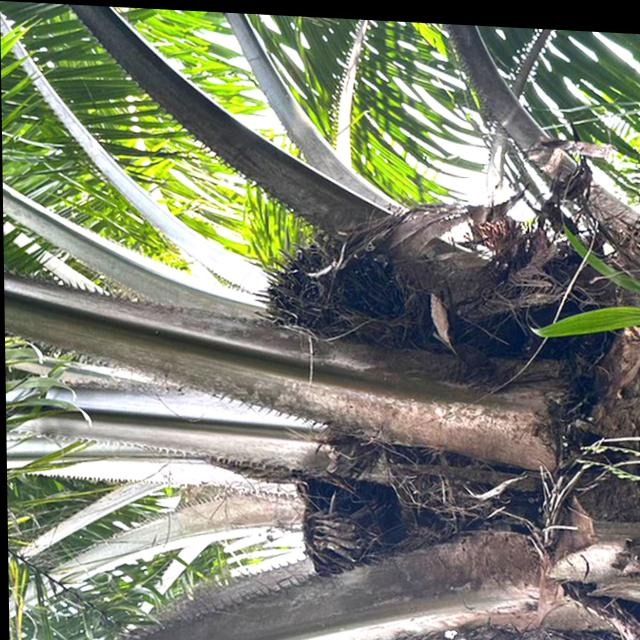ripe: (246, 225, 419, 360)
